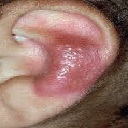Herpes Virus: (46, 36, 95, 91)
